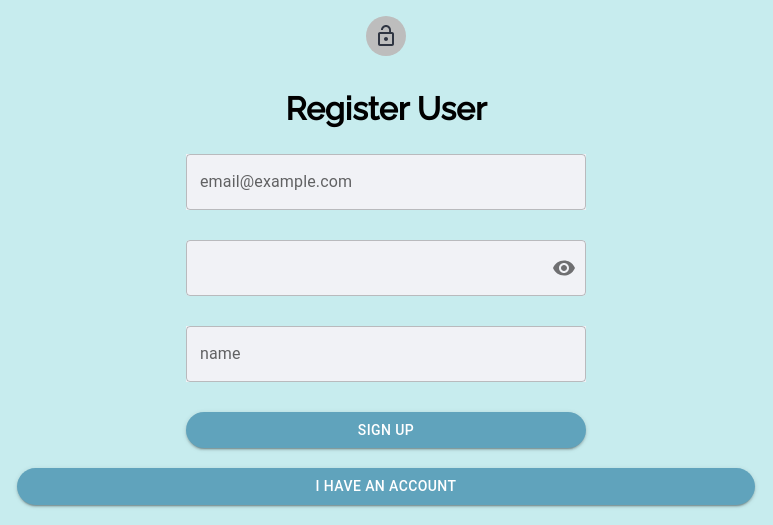
Test case: SignUp component › should display success message on successful sign up
Type "test@example.com" into the field labelled "email@example.com". click: (386, 182)
box: [186,154,586,210]
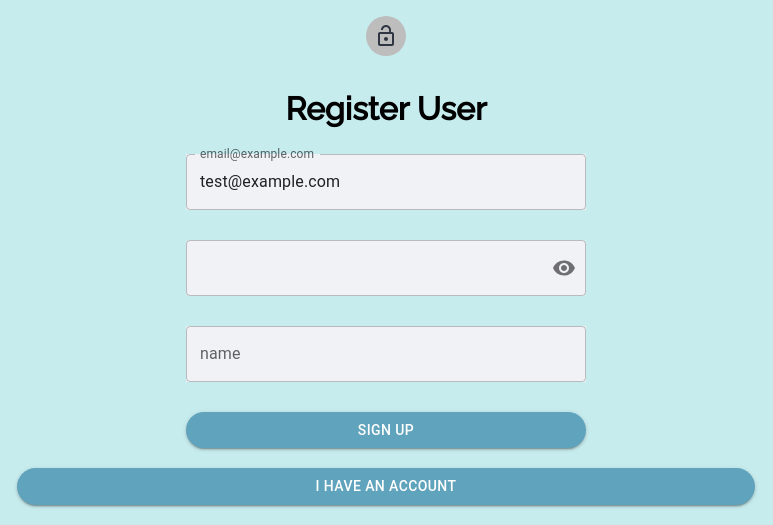
Type "testPassword" into the password field. click: (361, 268)
box: [186,240,536,296]
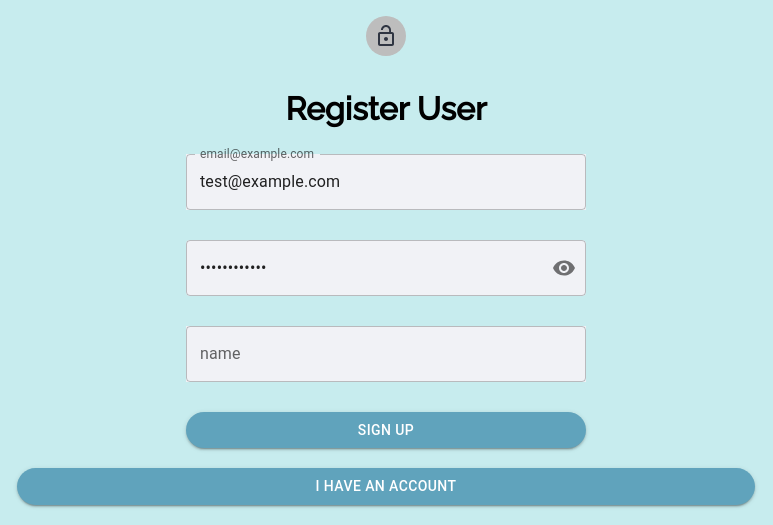
Type "John Doe" into the field labelled "name". click: (386, 354)
box: [186,326,586,382]
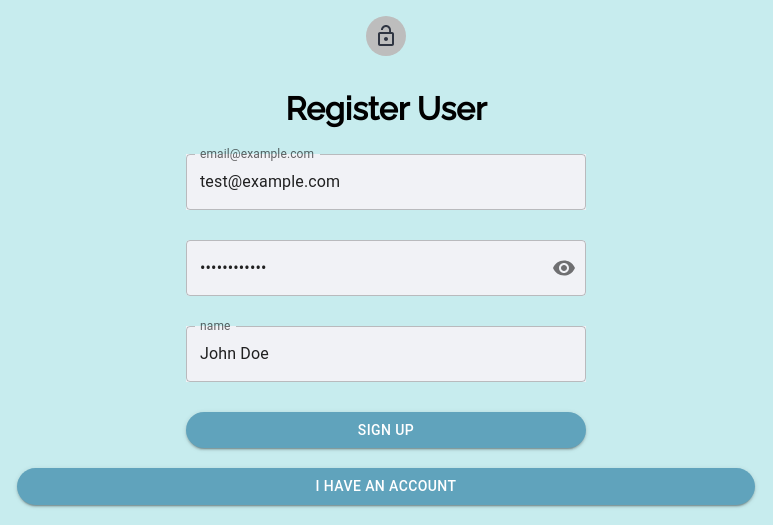
Click the button "Sign Up". click: (386, 430)
box: [186,412,586,448]
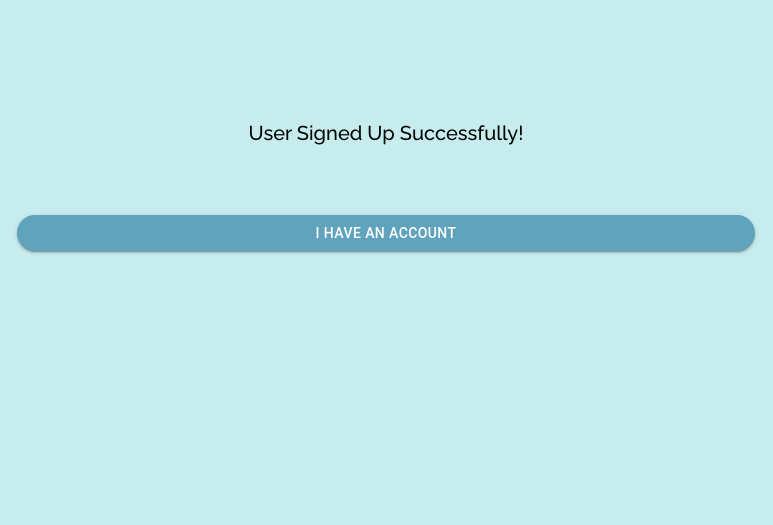
Expected: the text "User Signed Up Successfully!" is shown, [249,121,523,145]
